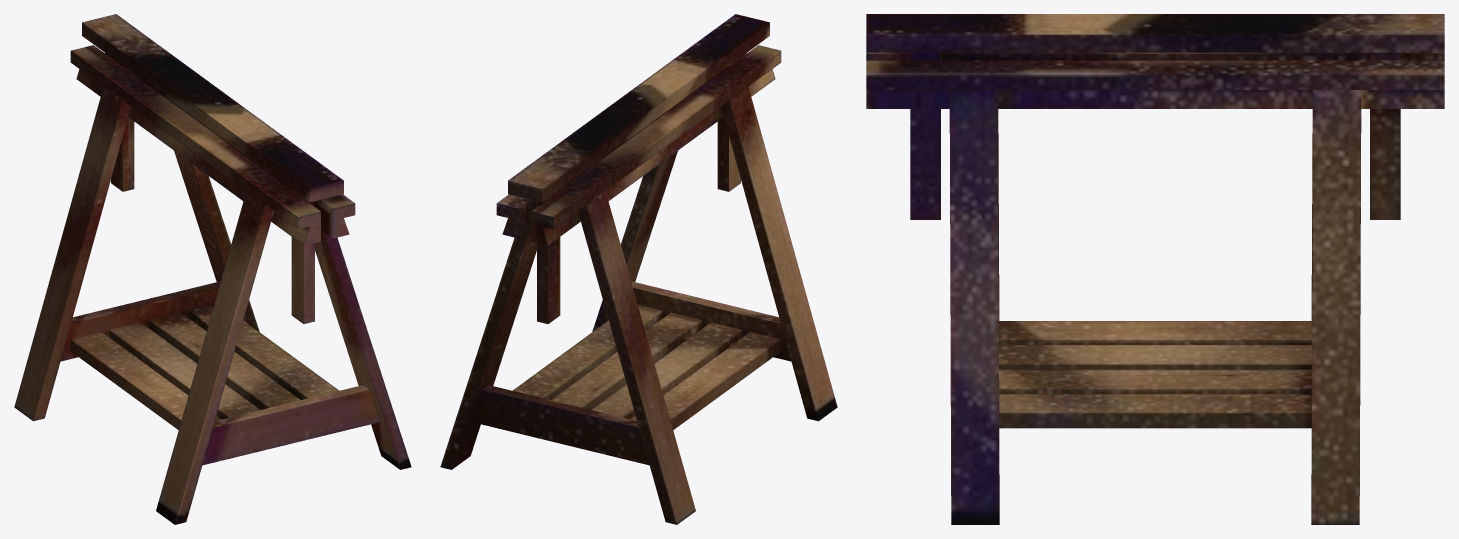
File: trestle_right.glb
The picture shows the model from 3 angles, left to right: view 1: azimuth 30°, elevation 25°; view 2: azimuth 150°, elevation 25°; view 3: azimuth 270°, elevation 25°; orthographic projection. The views are drawn at different scales.
Parts seen in each view (by area): view 1: trestle_right; view 2: trestle_right; view 3: trestle_right.
Part boxes in pixels (x1=…): trestle_right: x1=14, y1=14, x2=411, y2=524; trestle_right: x1=440, y1=14, x2=837, y2=524; trestle_right: x1=866, y1=14, x2=1444, y2=524.
Size of the model in its own units: 3.84 by 5.2 by 6.39.
Materials: 1 (1 with a texture image).
